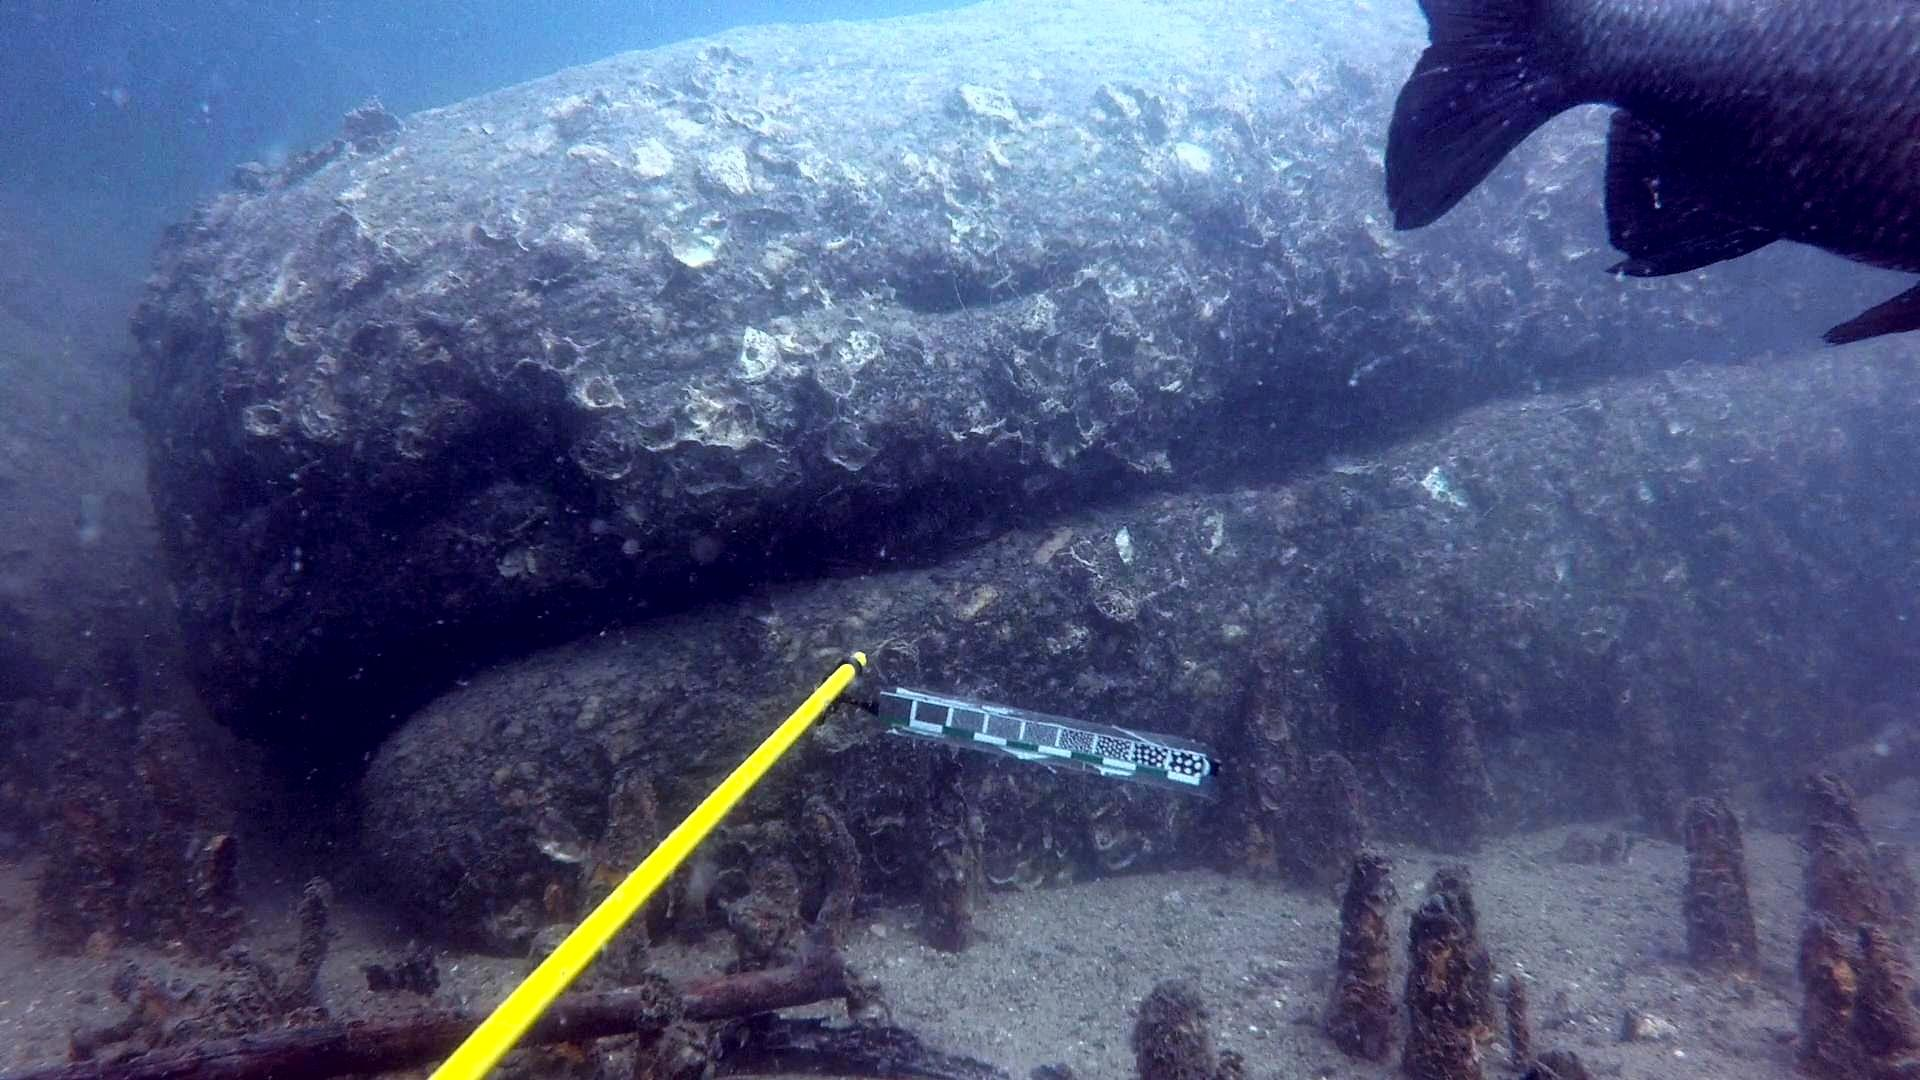acanthopagrus palmaris: (1378, 0, 1920, 355)
